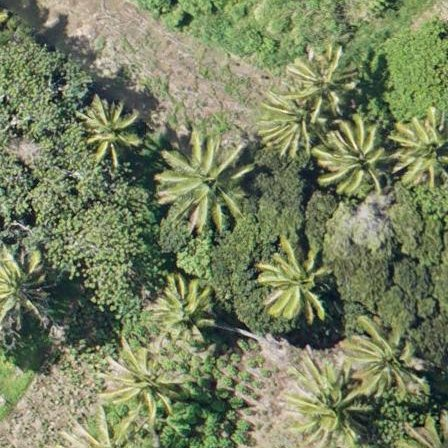palm_tree: (157, 137, 250, 227), (252, 234, 335, 323), (290, 355, 368, 447), (342, 312, 424, 399), (321, 117, 392, 194), (291, 42, 360, 111), (109, 350, 178, 418), (258, 91, 328, 157), (152, 278, 216, 341), (392, 120, 448, 187), (81, 101, 140, 156), (1, 253, 44, 312)
